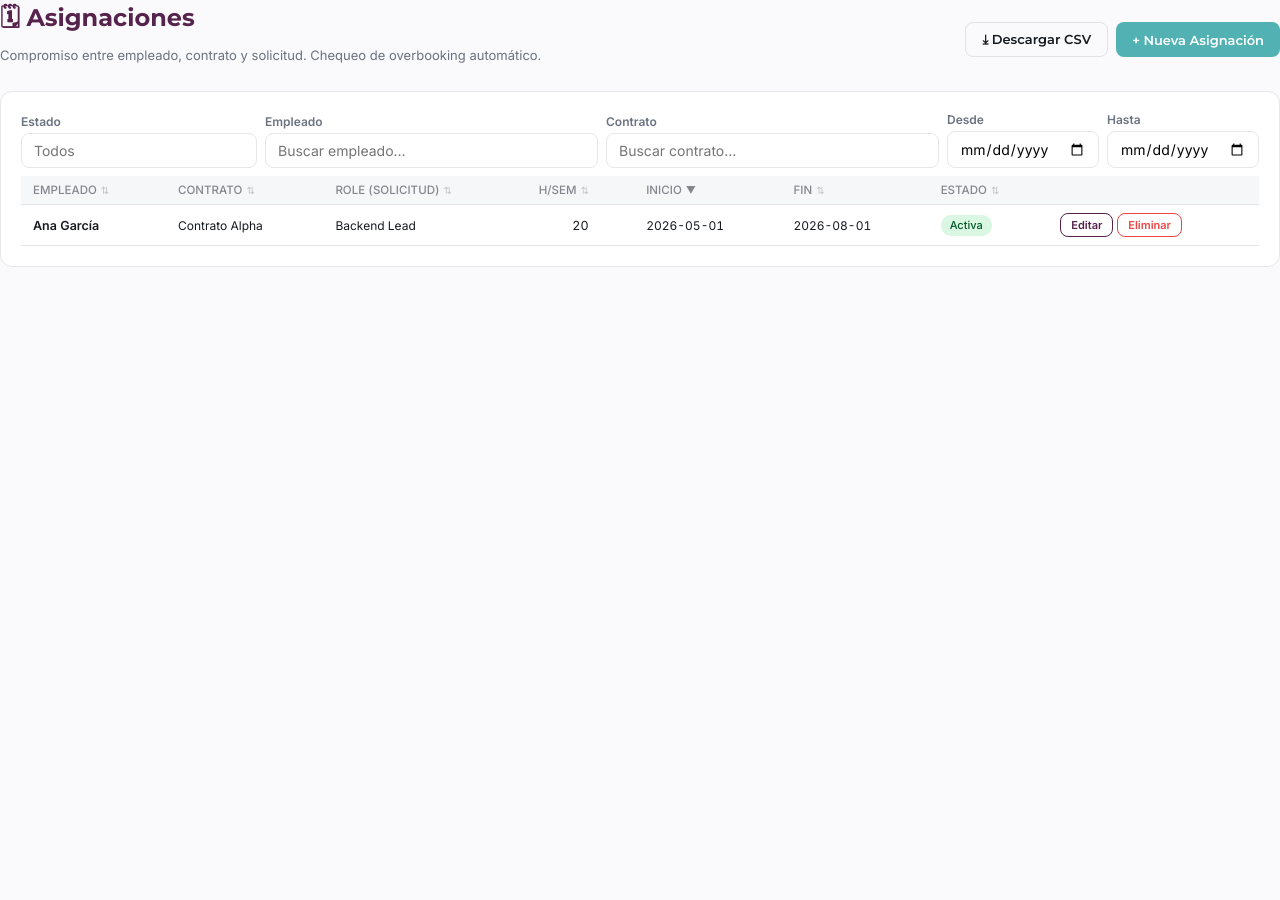
Test: Assignments module › request combobox excludes filled/cancelled requests
Check: the text "Ana García" is shown, box [21,204,166,246]
Click the button "+ Nueva Asignación" at (1198, 40), box [1116,22,1279,57]
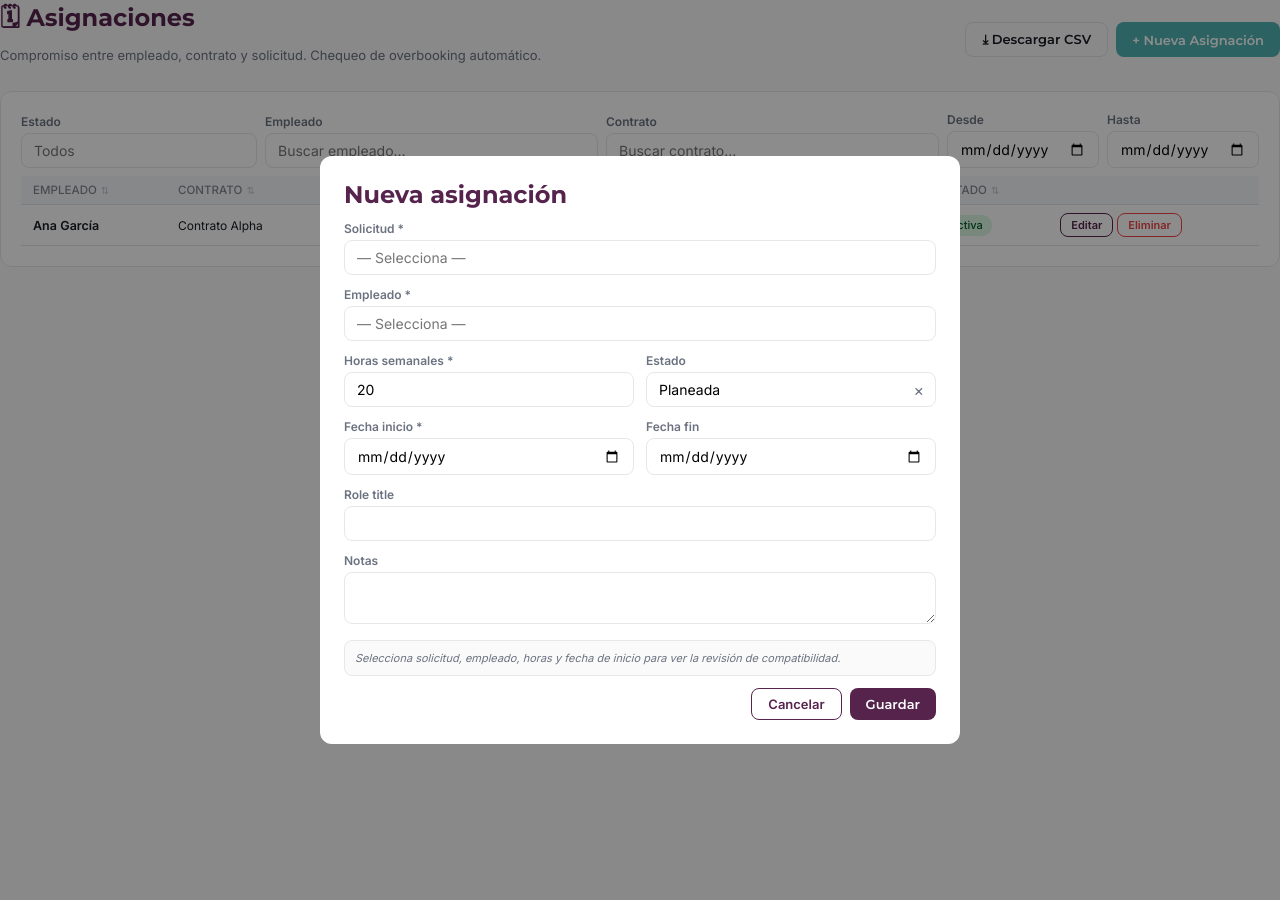
Focus the dropdown labelled "Solicitud" at (640, 258), box [344,240,936,275]
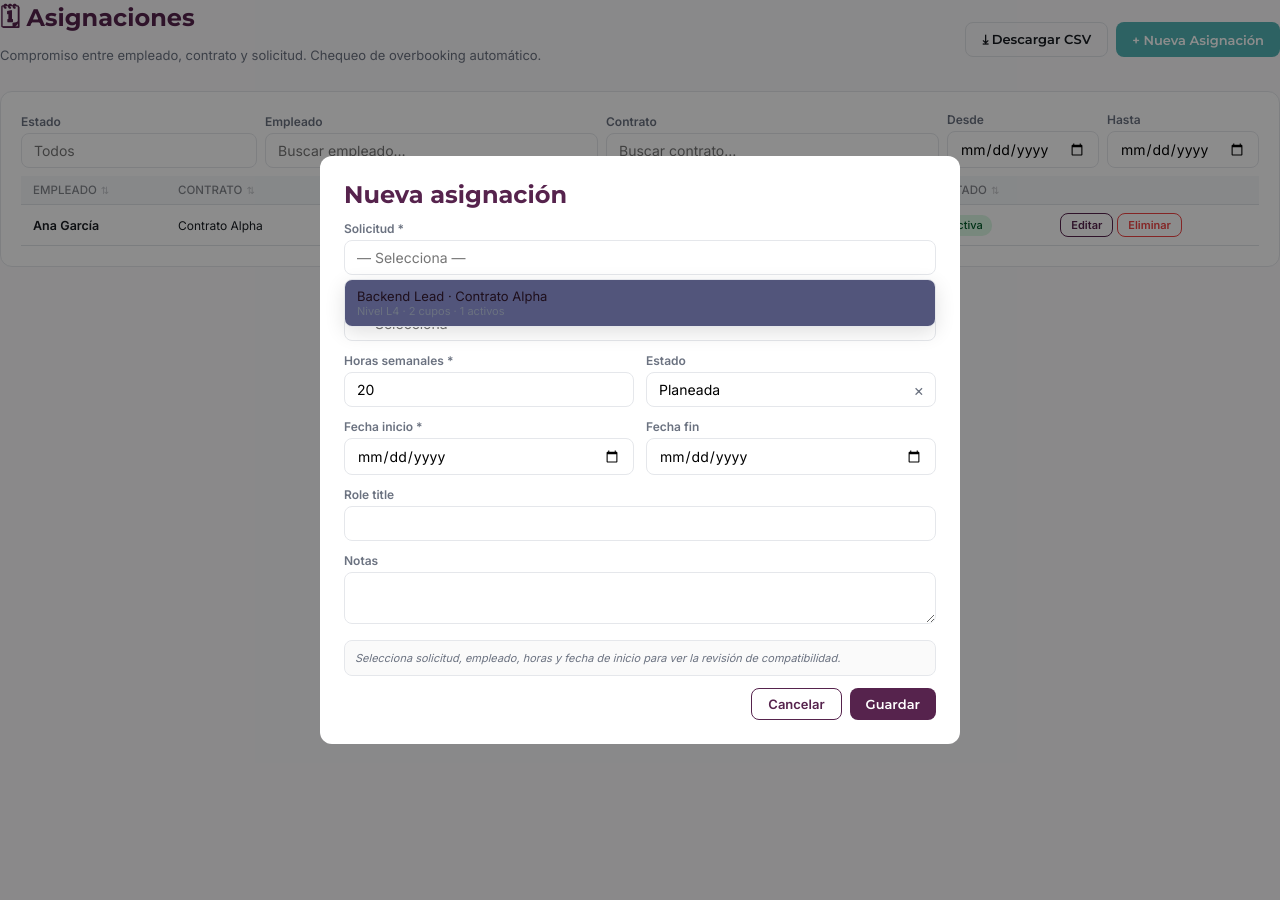
Check: the text "Backend Lead · Contrato Alpha" is shown, box [357,288,547,304]
